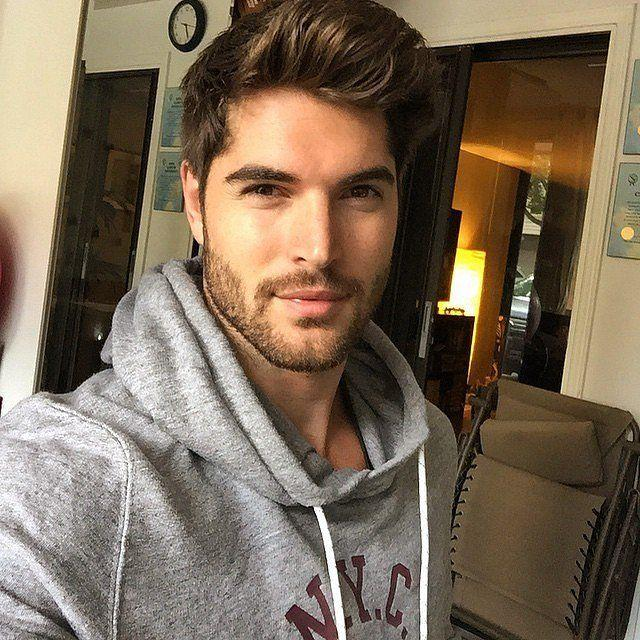earlobe: (180, 159, 206, 246)
